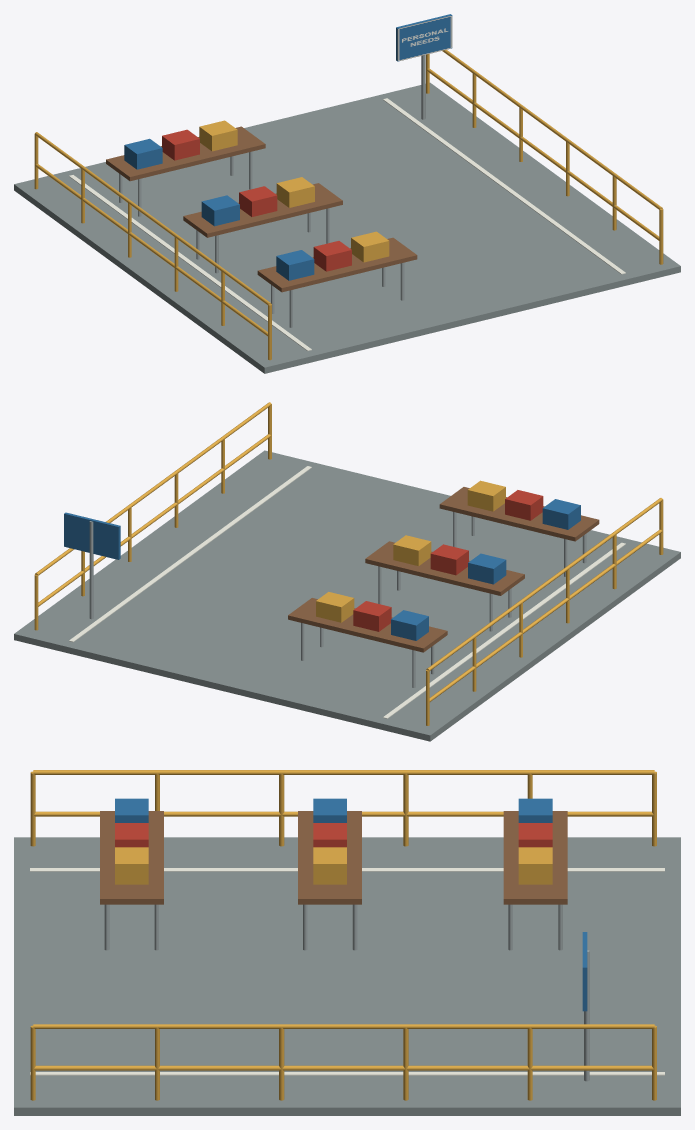
Rendered from scendance-plan-special-needs.glb.
3 views of the same model, one above another, from view 1: azimuth 30°, elevation 25°; view 2: azimuth 150°, elevation 25°; view 3: azimuth 270°, elevation 25° (orthographic). The views are drawn at different scales.
Size of the model in its own units: 7 by 1.67 by 7.3.
Materials: 9 (1 with a texture image).
